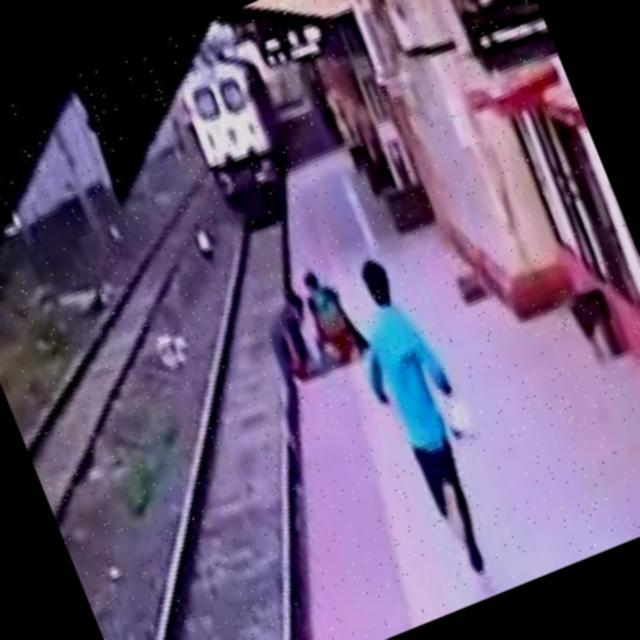person: (324, 248, 528, 602), (250, 281, 336, 399), (290, 256, 368, 374)
